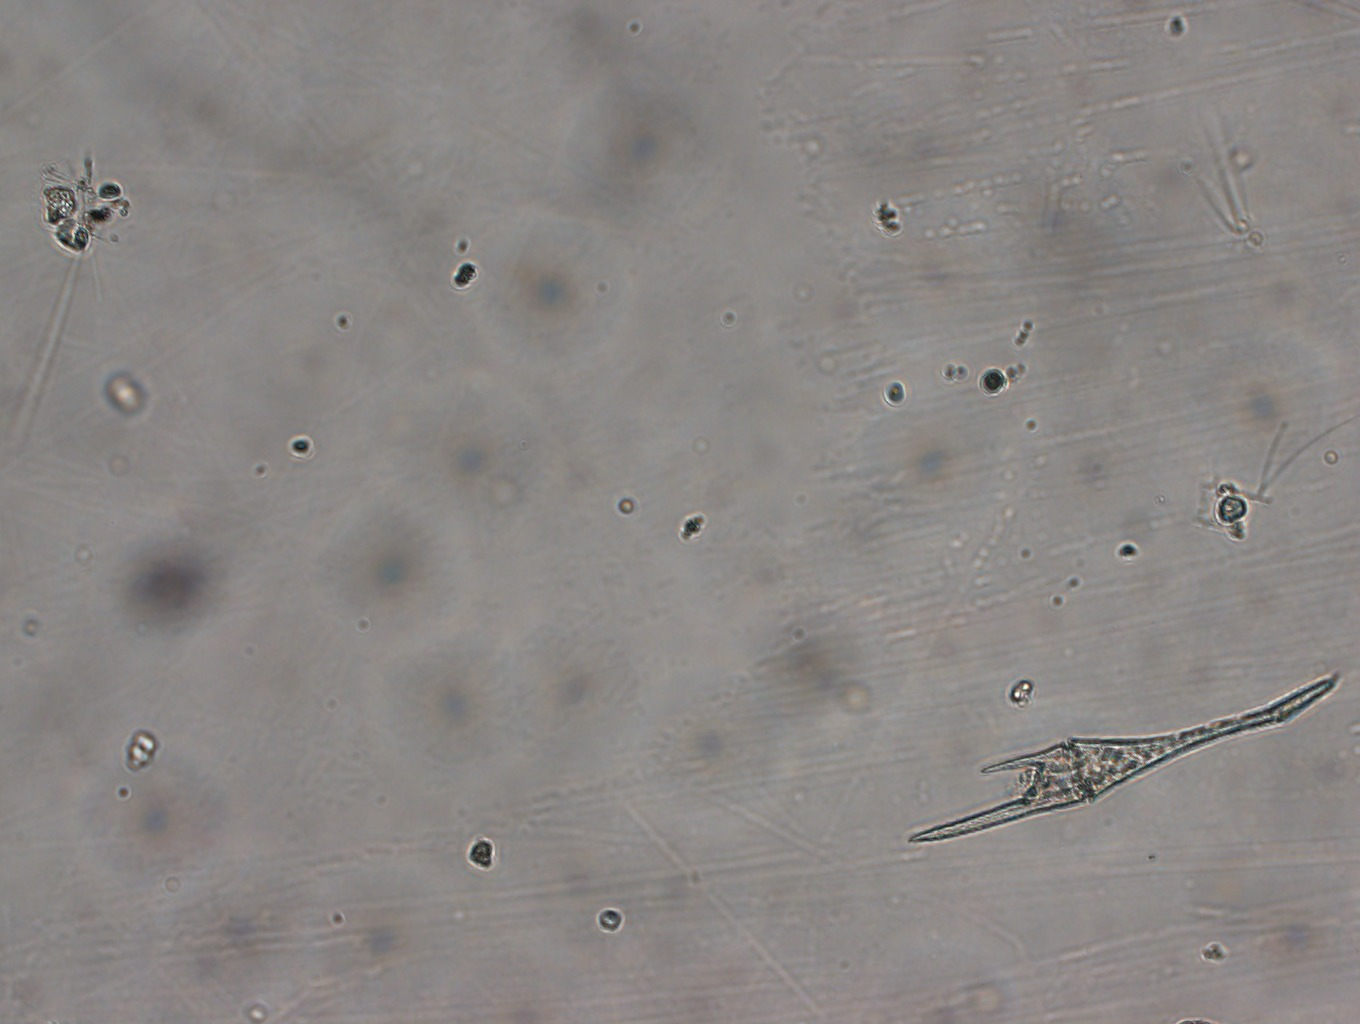ceratium furca: (905, 662, 1341, 850)
